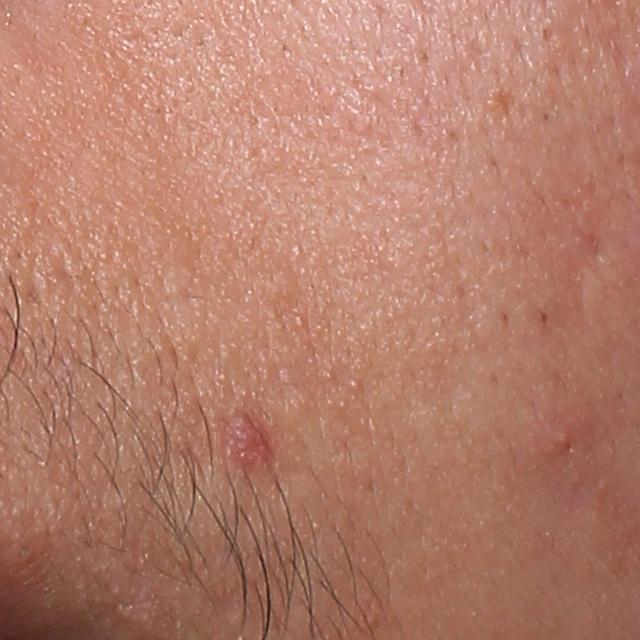atrophic_scar: (555, 213, 626, 313)
papule: (544, 422, 585, 455)
